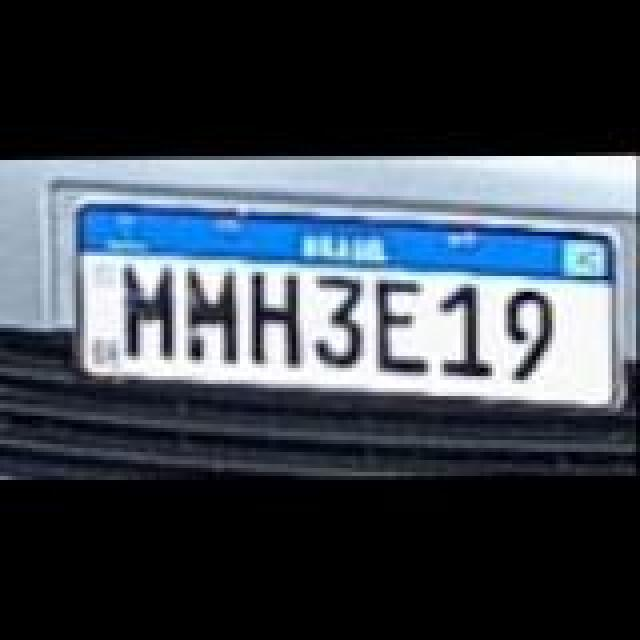1: (436, 286, 496, 382)
3: (312, 274, 372, 370)
9: (504, 288, 564, 384)
E: (370, 280, 434, 380)
H: (246, 268, 310, 368)
M: (118, 262, 182, 362), (182, 268, 246, 368)
